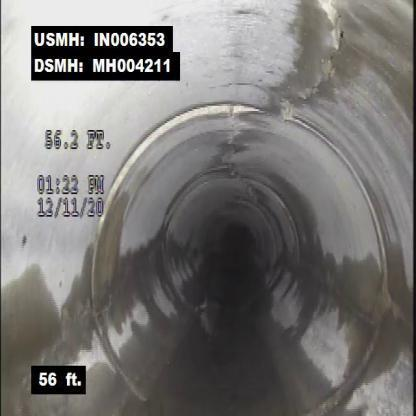Buckling: (294, 1, 349, 96)
Crack: (57, 296, 93, 337)
Joint offset: (126, 102, 226, 164)
